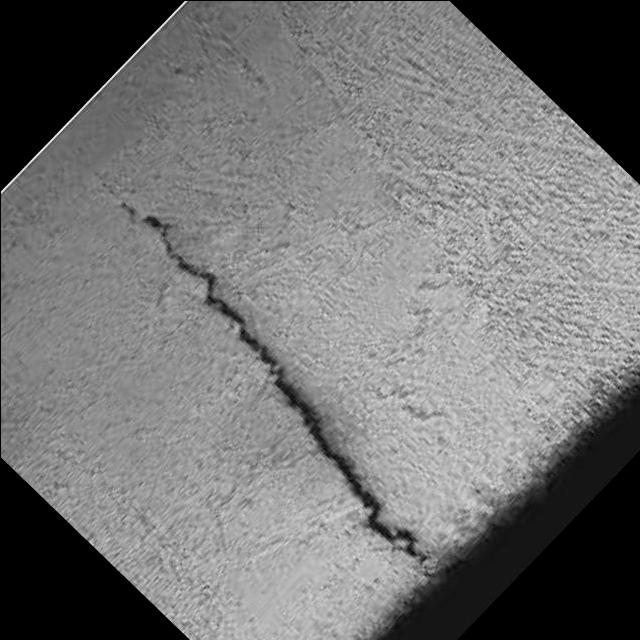defect: (131, 205, 433, 569)
